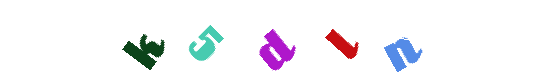5: (236, 0, 316, 80)
D: (238, 0, 318, 80)
K: (105, 0, 185, 80)
L: (269, 0, 349, 80)
N: (302, 0, 382, 80)
